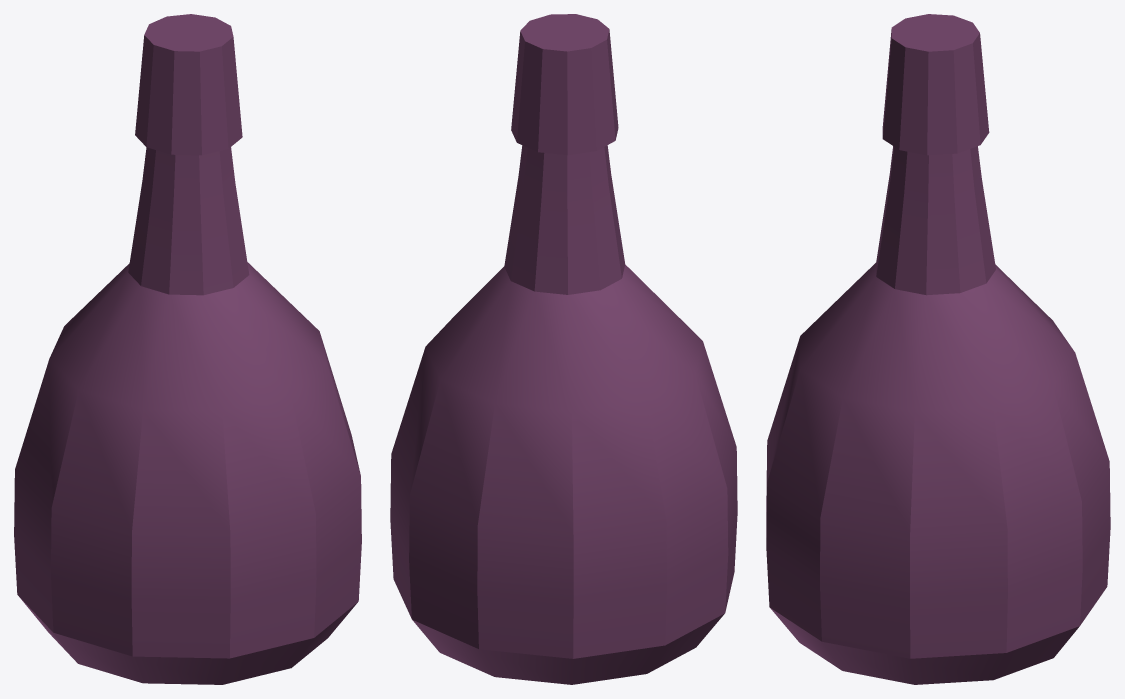
Rendered from 6_pinkBottle.fbx.
3 renders of one model, left to right at view 1: azimuth 30°, elevation 25°; view 2: azimuth 150°, elevation 25°; view 3: azimuth 270°, elevation 25°, orthographic.
Visible parts, largest first — view 1: Sphere.004; view 2: Sphere.004; view 3: Sphere.004.
Boxes of the visible parts, <box> form: Sphere.004: <box>14,14,361,684</box>; Sphere.004: <box>390,14,737,684</box>; Sphere.004: <box>766,14,1110,684</box>.
Bounding box in the file's own units: 118 × 224 × 117.
